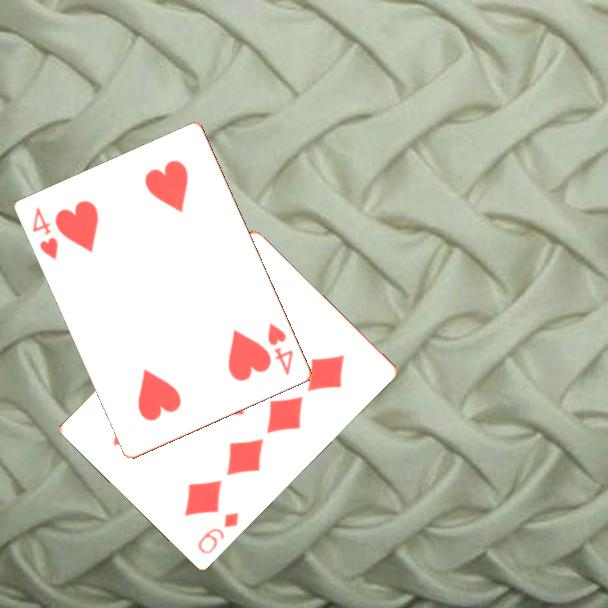d09: (194, 508, 242, 557)
h04: (29, 203, 62, 263), (264, 319, 297, 378)
